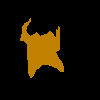maglia: (20, 17, 64, 78)
